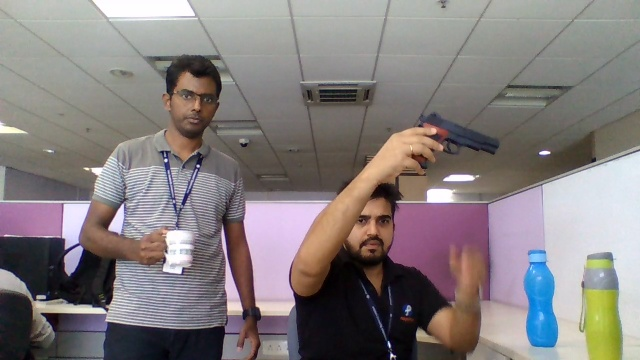gun: (444, 119, 500, 156)
